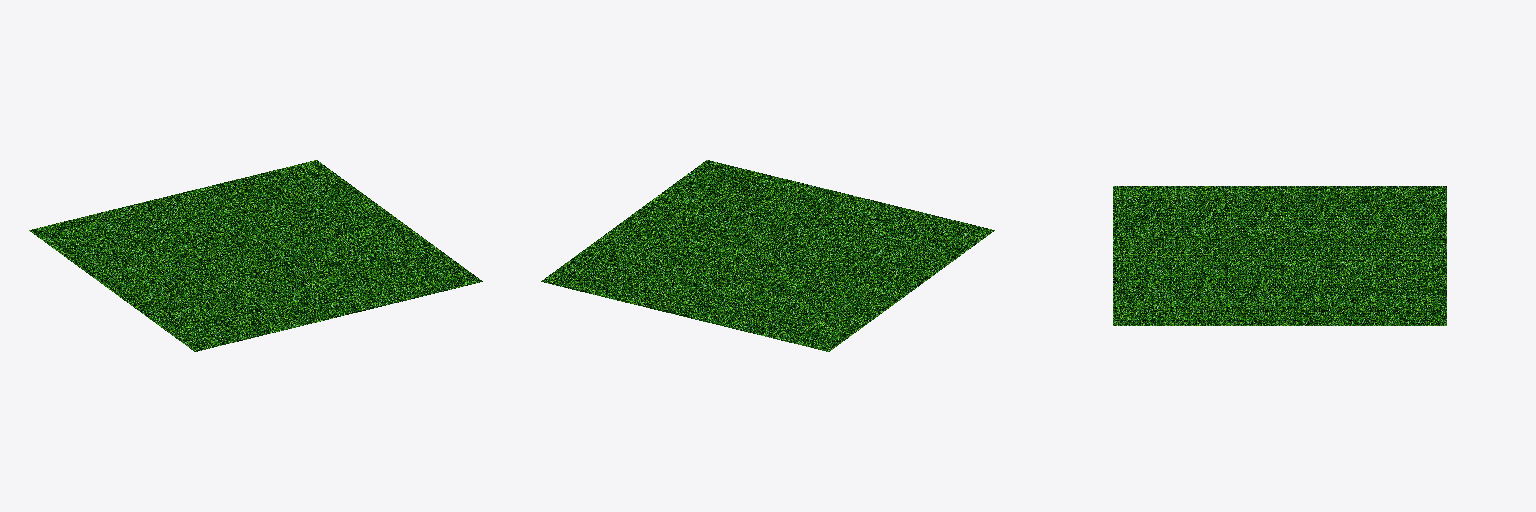
3 views of the same model, side by side, from view 1: azimuth 30°, elevation 25°; view 2: azimuth 150°, elevation 25°; view 3: azimuth 270°, elevation 25° (orthographic).
Parts seen in each view (by area): view 1: Plane; view 2: Plane; view 3: Plane.
Part boxes in pixels (x1,y1,x2,y2): Plane: (29,160,482,351); Plane: (541,160,994,351); Plane: (1113,186,1446,325).
Bounding box in the file's own units: 200 × 0 × 200.
1 materials, 1 textured.